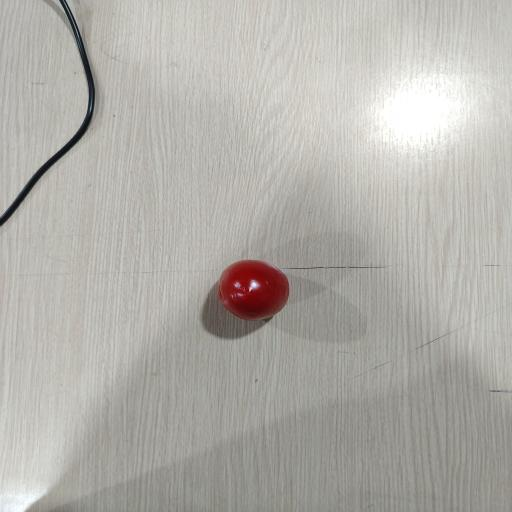spoiled: (217, 260, 289, 321)
